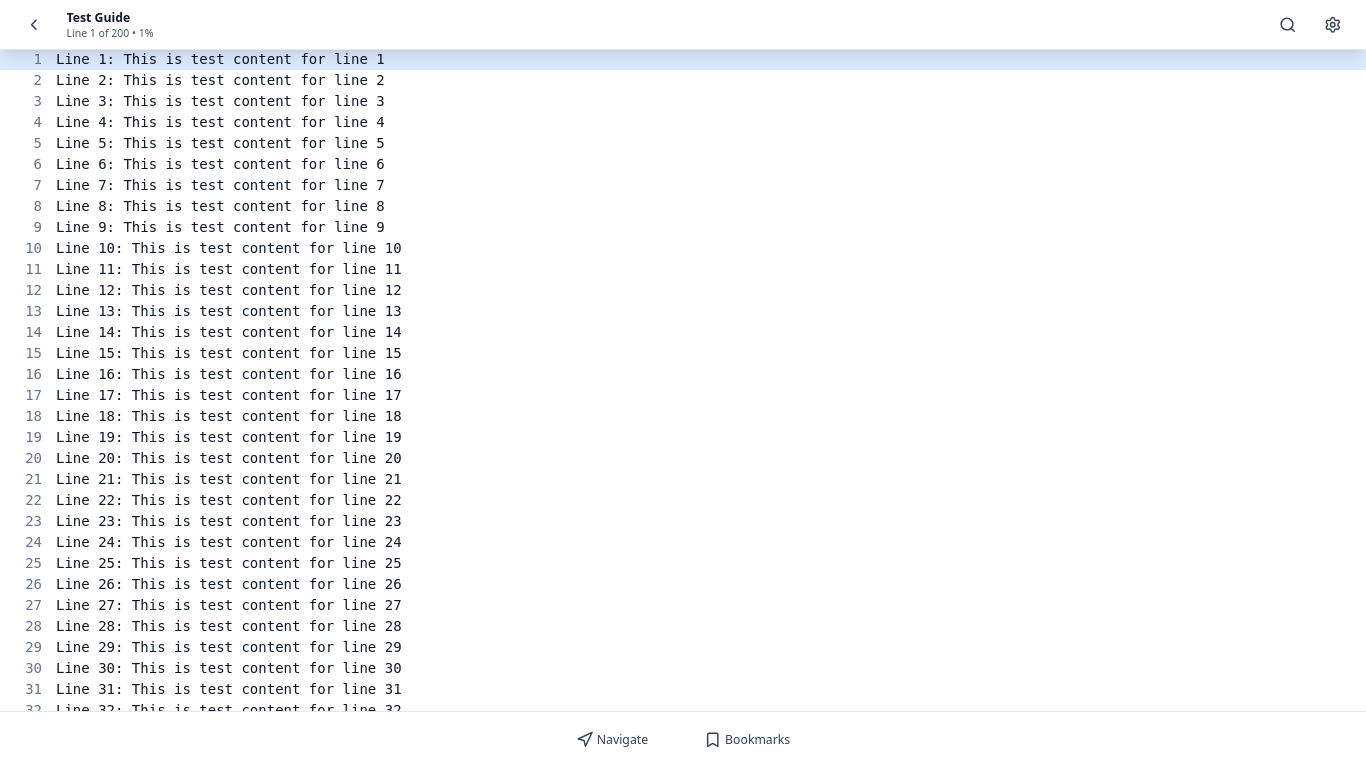
GuideReader Tests › Reading Position Persistence › should handle navigation
Expected: the heading "Test Guide" is shown, x1=66 y1=9 x2=130 y2=26
Click the button "Navigate" at (612, 740), box x1=562 y1=716 x2=662 y2=764
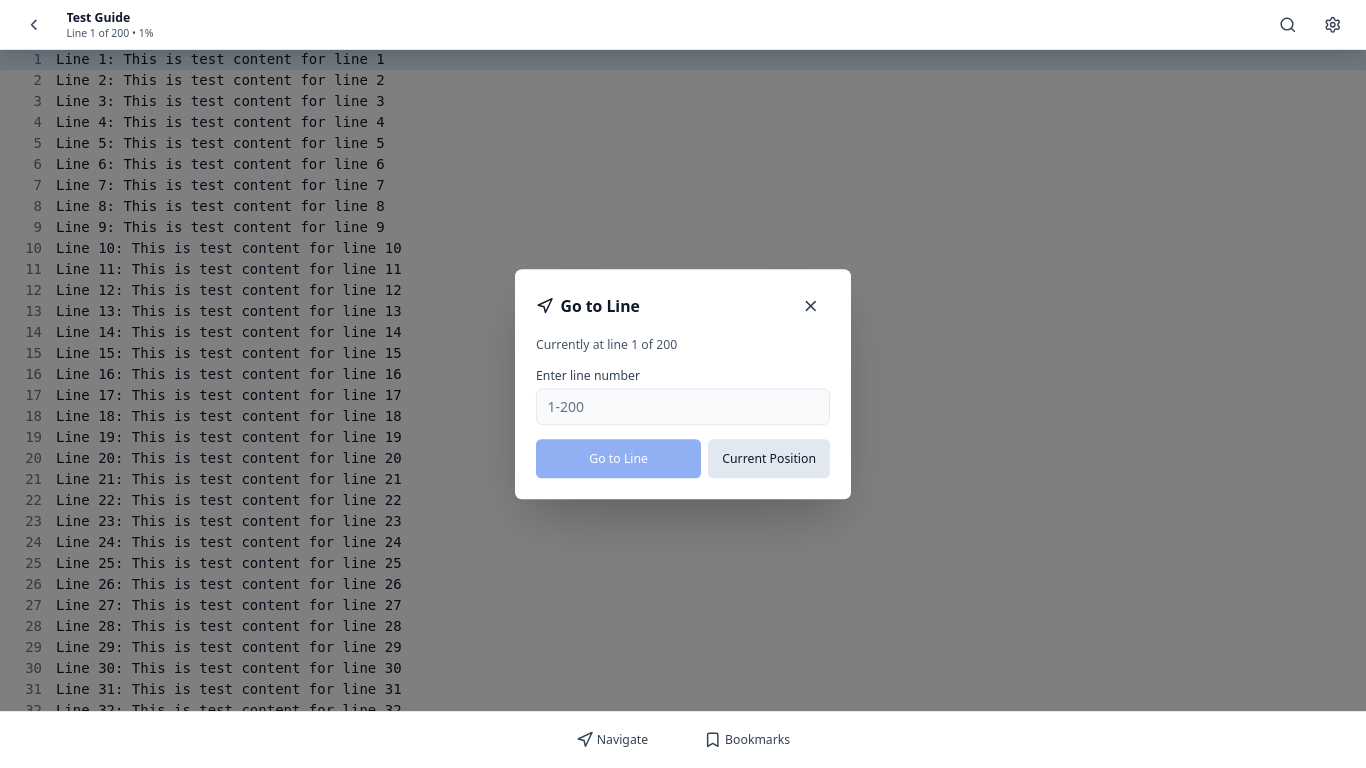
Expected: the heading "Go to Line" is shown, x1=536 y1=294 x2=640 y2=318
Expected: the number field with placeholder "1-200" is shown
Type "50" into the number field with placeholder "1-200" at (683, 407), box x1=536 y1=388 x2=830 y2=425
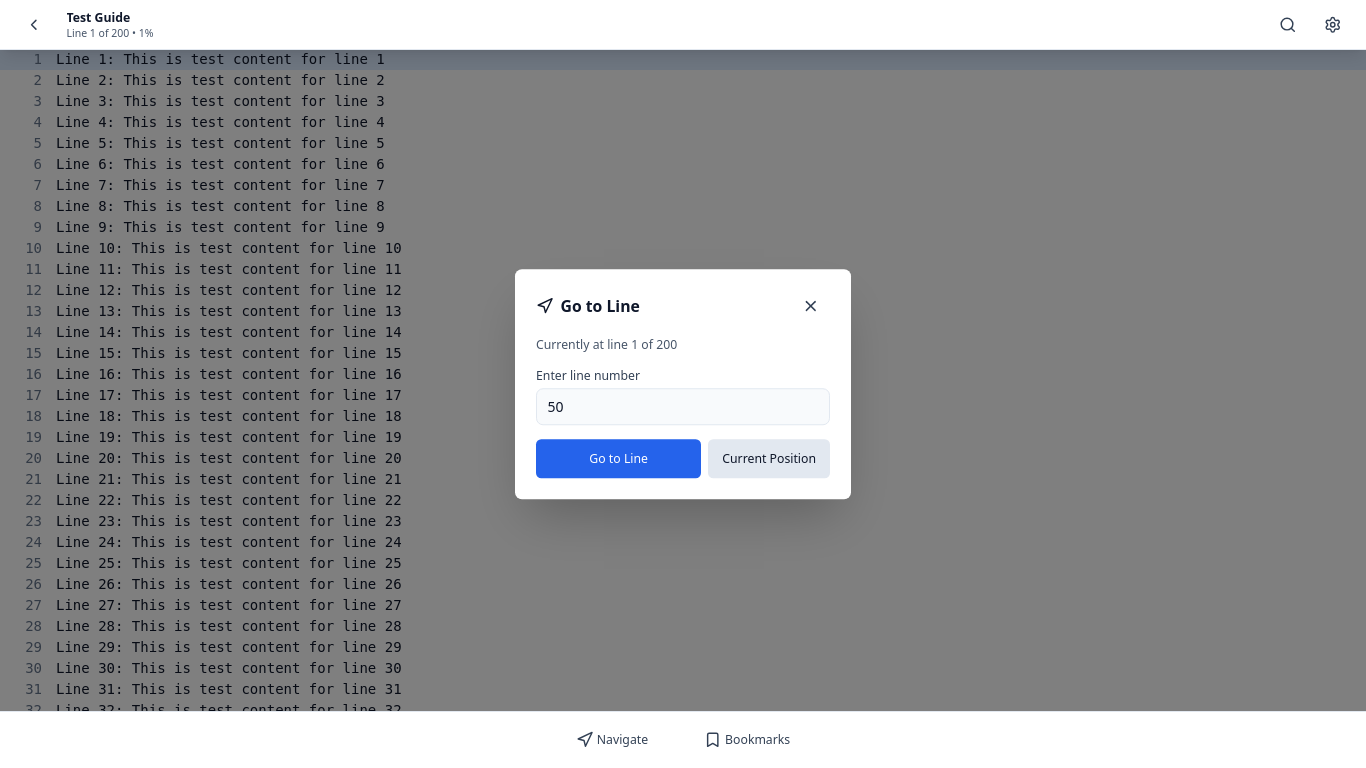
Note: Click the Go button
Click the button "Go to Line" at (619, 459), box x1=536 y1=439 x2=701 y2=478
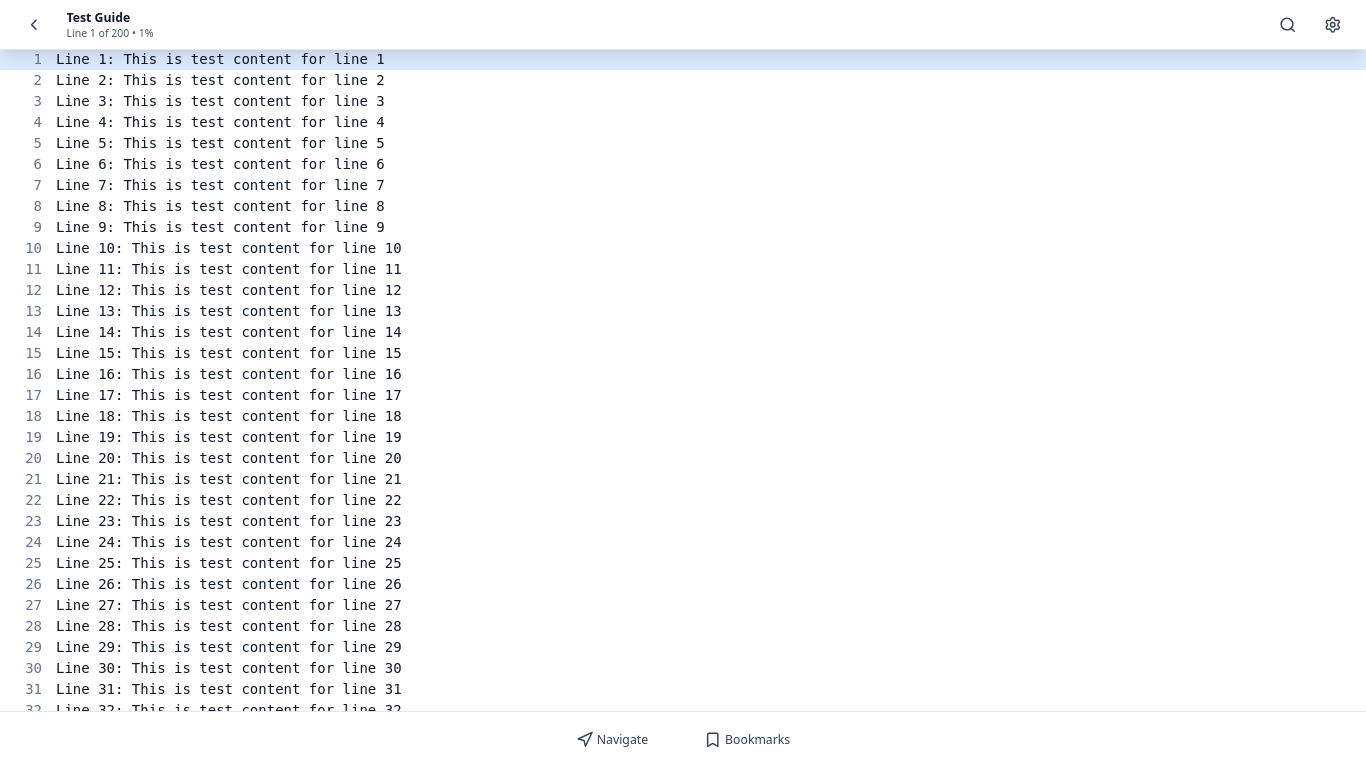
Expected: the heading "Go to Line" is gone
